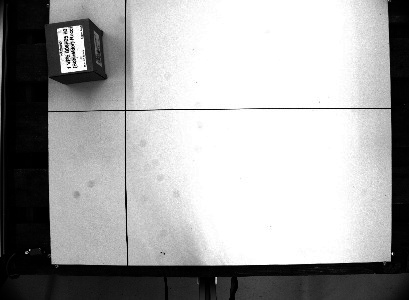b5: (41, 16, 108, 86)
